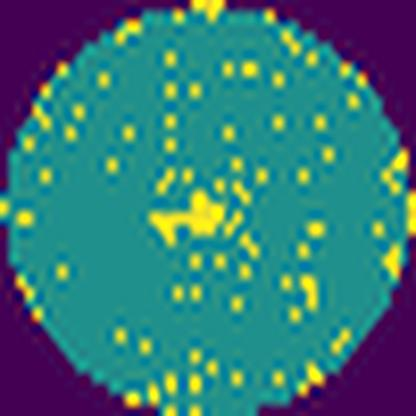Center: (150, 190, 226, 248)
